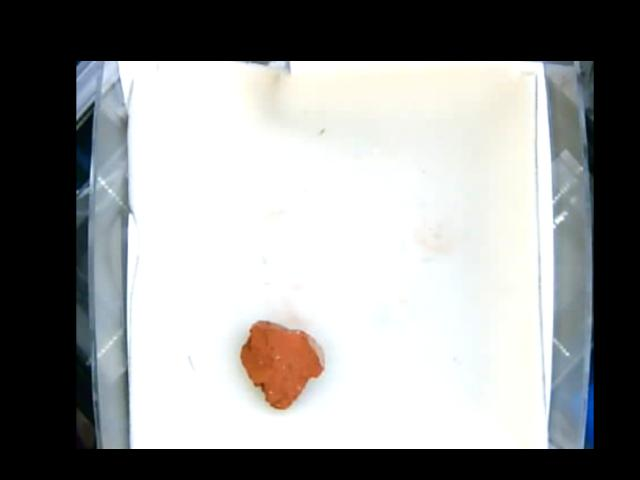Brisk: (242, 318, 325, 409)
